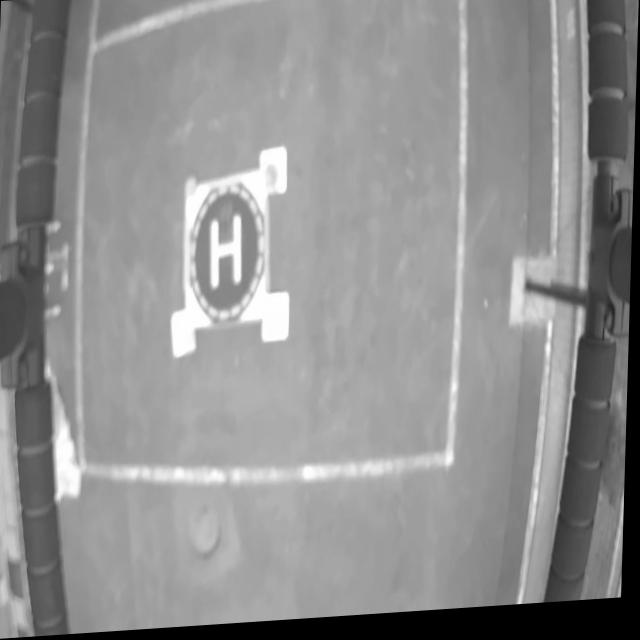Helipad: (211, 217, 242, 288)
